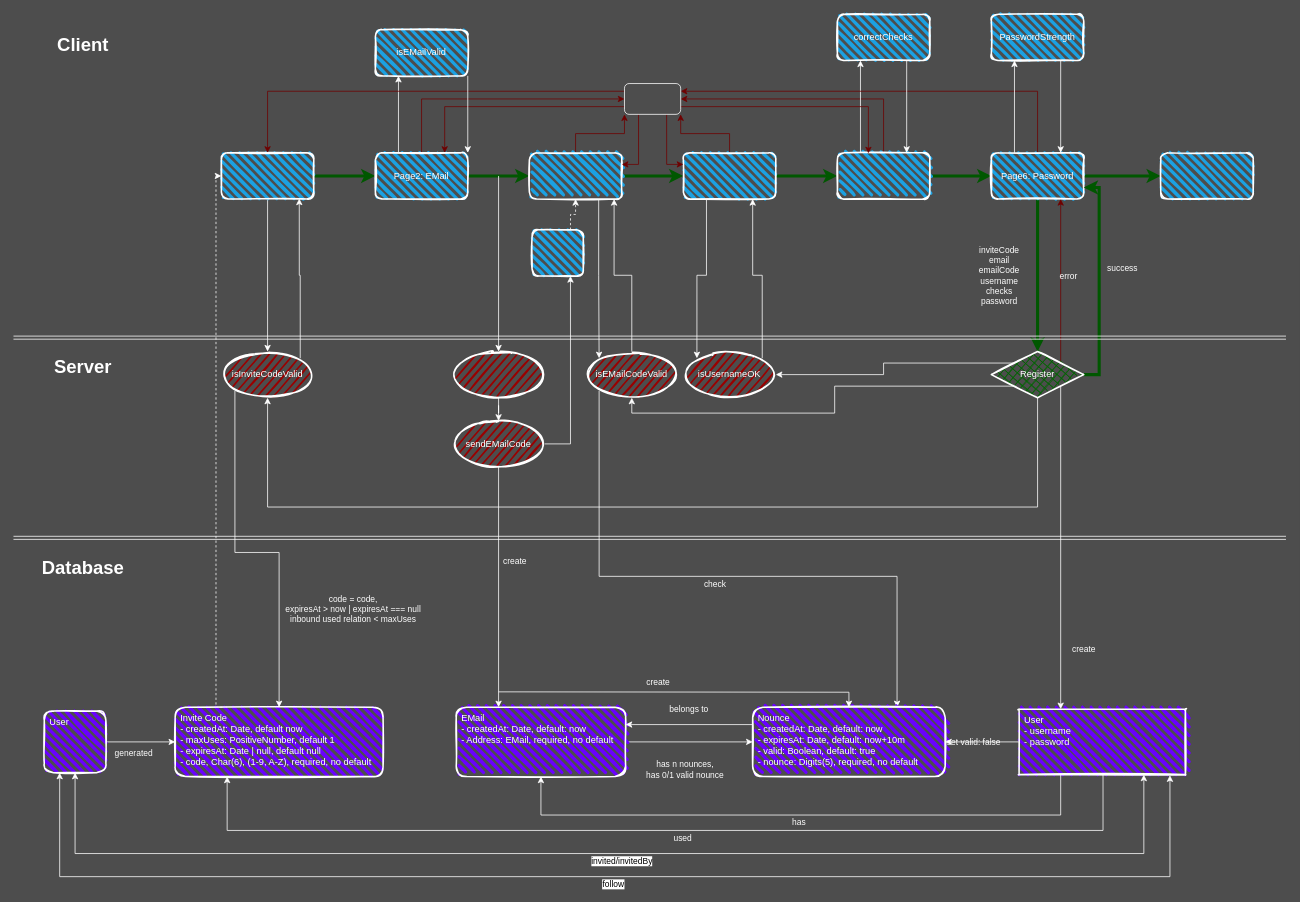
Some shapes in this 1300 by 902 pixel diagram are drawn without their labels. Here are the shapes that lost their labels. From the top down, the box of each, then its label:
(624, 83, 681, 114): Go Back
(220, 152, 314, 199): Page1: Invite-Code
(528, 152, 622, 199): Page3: EMail-Code
(682, 152, 776, 199): Page4: Username
(836, 152, 930, 199): Page5: Check
(1160, 152, 1254, 199): Dashboard
(531, 229, 584, 276): UserEMail
(451, 350, 545, 398): isEMailValid (regex)
